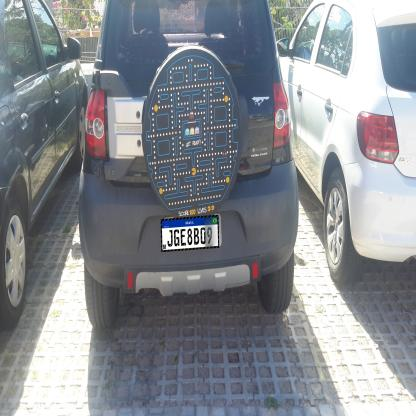PlacaM: (161, 215, 219, 252)
